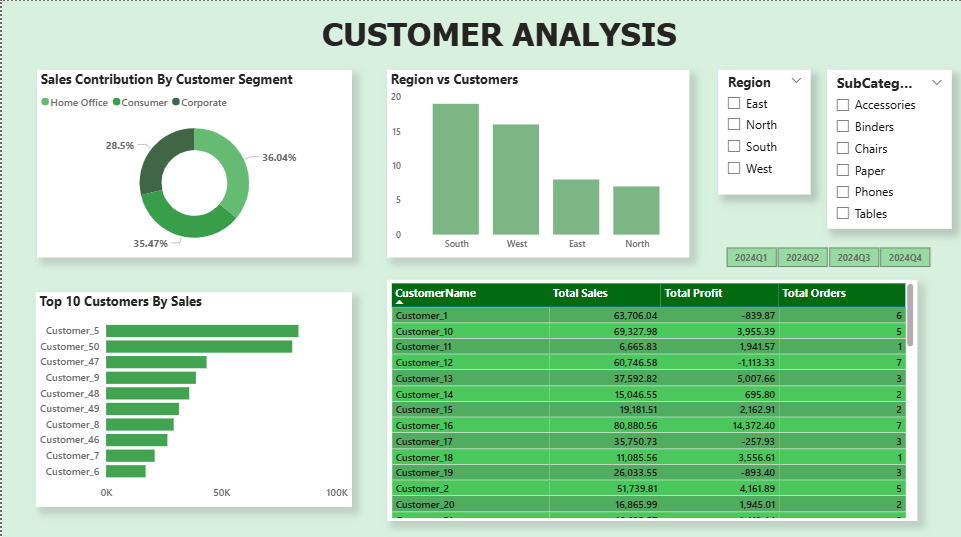

What the dashboard file says about the page in this screenshot:
{"tool":"powerbi","page":{"name":"Customer Analysis","canvas":[1280,720],"ordinal":3},"visuals":[{"type":"barChart","title":"Top 10 Customers By Sales ","fields":{"Category":["Customers.CustomerName"],"Y":["Orders.Total Sales"]},"box":[45,388.3,421.7,286.7],"z":0},{"type":"donutChart","title":"Sales Contribution By Customer Segment ","fields":{"Category":["Customers.Segment"],"Y":["Orders.Total Sales"]},"box":[46.7,91.7,420,250],"z":1000},{"type":"tableEx","fields":{"Values":["Customers.CustomerName","Orders.Total Sales","Orders.Total Profit","Orders.Total Orders"]},"box":[512.9,371.4,707.1,321.4],"z":2000},{"type":"columnChart","title":"Region vs Customers ","fields":{"Category":["Customers.Region"],"Y":["Orders.Total Customers"]},"box":[513.3,91.7,403.3,250],"z":3000},{"type":"slicer","fields":{"Values":["Customers.Region"]},"box":[955,91.7,123.3,166.7],"z":4000},{"type":"slicer","fields":{"Values":["Products.SubCategory"]},"box":[1100,91.7,166.7,211.7],"z":5000},{"type":"slicer","fields":{"Values":["Calendar.Quarter"]},"box":[940,321.7,321.7,38.3],"z":6000},{"type":"textbox","box":[421.7,13.3,495,63.3],"z":7000}]}

Visuals, with their boxes in screenshot pixels (x1, y1, x2, y2), scaled from the page's 1280x720 canvas onto the 961x537 screenshot:
"Top 10 Customers By Sales " barChart: [x1=34, y1=290, x2=350, y2=503]
"Sales Contribution By Customer Segment " donutChart: [x1=35, y1=68, x2=350, y2=255]
tableEx - Customers.CustomerName x Orders.Total Sales: [x1=385, y1=277, x2=916, y2=517]
"Region vs Customers " columnChart: [x1=385, y1=68, x2=688, y2=255]
slicer - Customers.Region: [x1=717, y1=68, x2=810, y2=193]
slicer - Products.SubCategory: [x1=826, y1=68, x2=951, y2=226]
slicer - Calendar.Quarter: [x1=706, y1=240, x2=947, y2=268]
textbox: [x1=317, y1=10, x2=688, y2=57]
